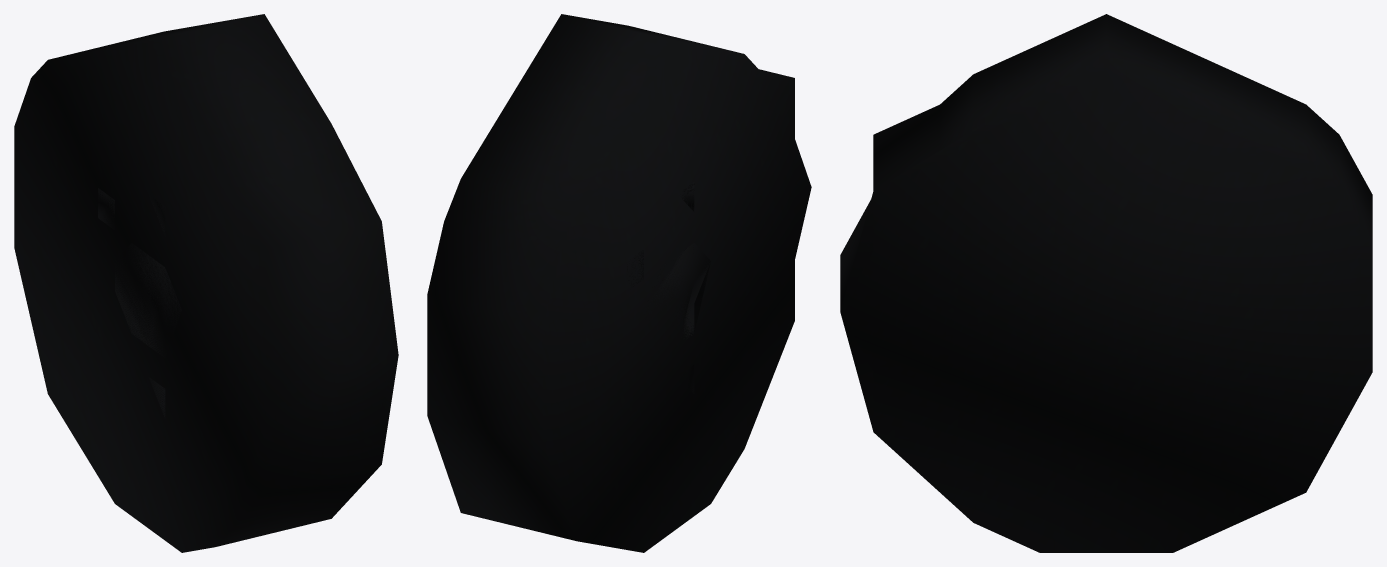
The picture shows the model from 3 angles, left to right: view 1: azimuth 30°, elevation 25°; view 2: azimuth 150°, elevation 25°; view 3: azimuth 270°, elevation 25°; orthographic projection.
Bounding box in the file's own units: 0.32 × 1.28 × 1.28.
1 material, 1 textured.
